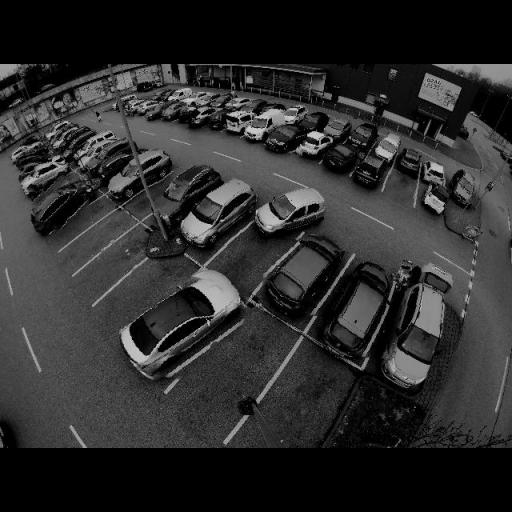busy: (117, 269, 246, 385), (386, 262, 452, 392), (327, 252, 399, 358), (262, 232, 340, 316), (180, 180, 257, 246), (250, 190, 324, 240), (32, 180, 92, 231), (157, 166, 217, 216), (110, 152, 170, 198), (86, 137, 135, 177), (21, 160, 67, 194), (267, 124, 307, 154), (245, 112, 280, 144), (356, 154, 390, 186), (322, 144, 358, 174), (450, 170, 481, 204), (418, 184, 450, 216), (298, 130, 334, 158), (18, 150, 52, 173), (372, 135, 400, 161), (347, 124, 376, 148), (223, 110, 252, 134), (422, 160, 448, 186), (397, 149, 424, 173), (323, 115, 351, 136), (164, 100, 190, 120), (281, 105, 308, 124), (208, 108, 230, 130), (256, 102, 286, 116), (306, 112, 328, 131)
free: (211, 340, 271, 388), (270, 384, 332, 430), (121, 278, 159, 308), (98, 248, 131, 274), (390, 174, 418, 198), (88, 228, 114, 247), (42, 177, 70, 194), (67, 214, 90, 231)
